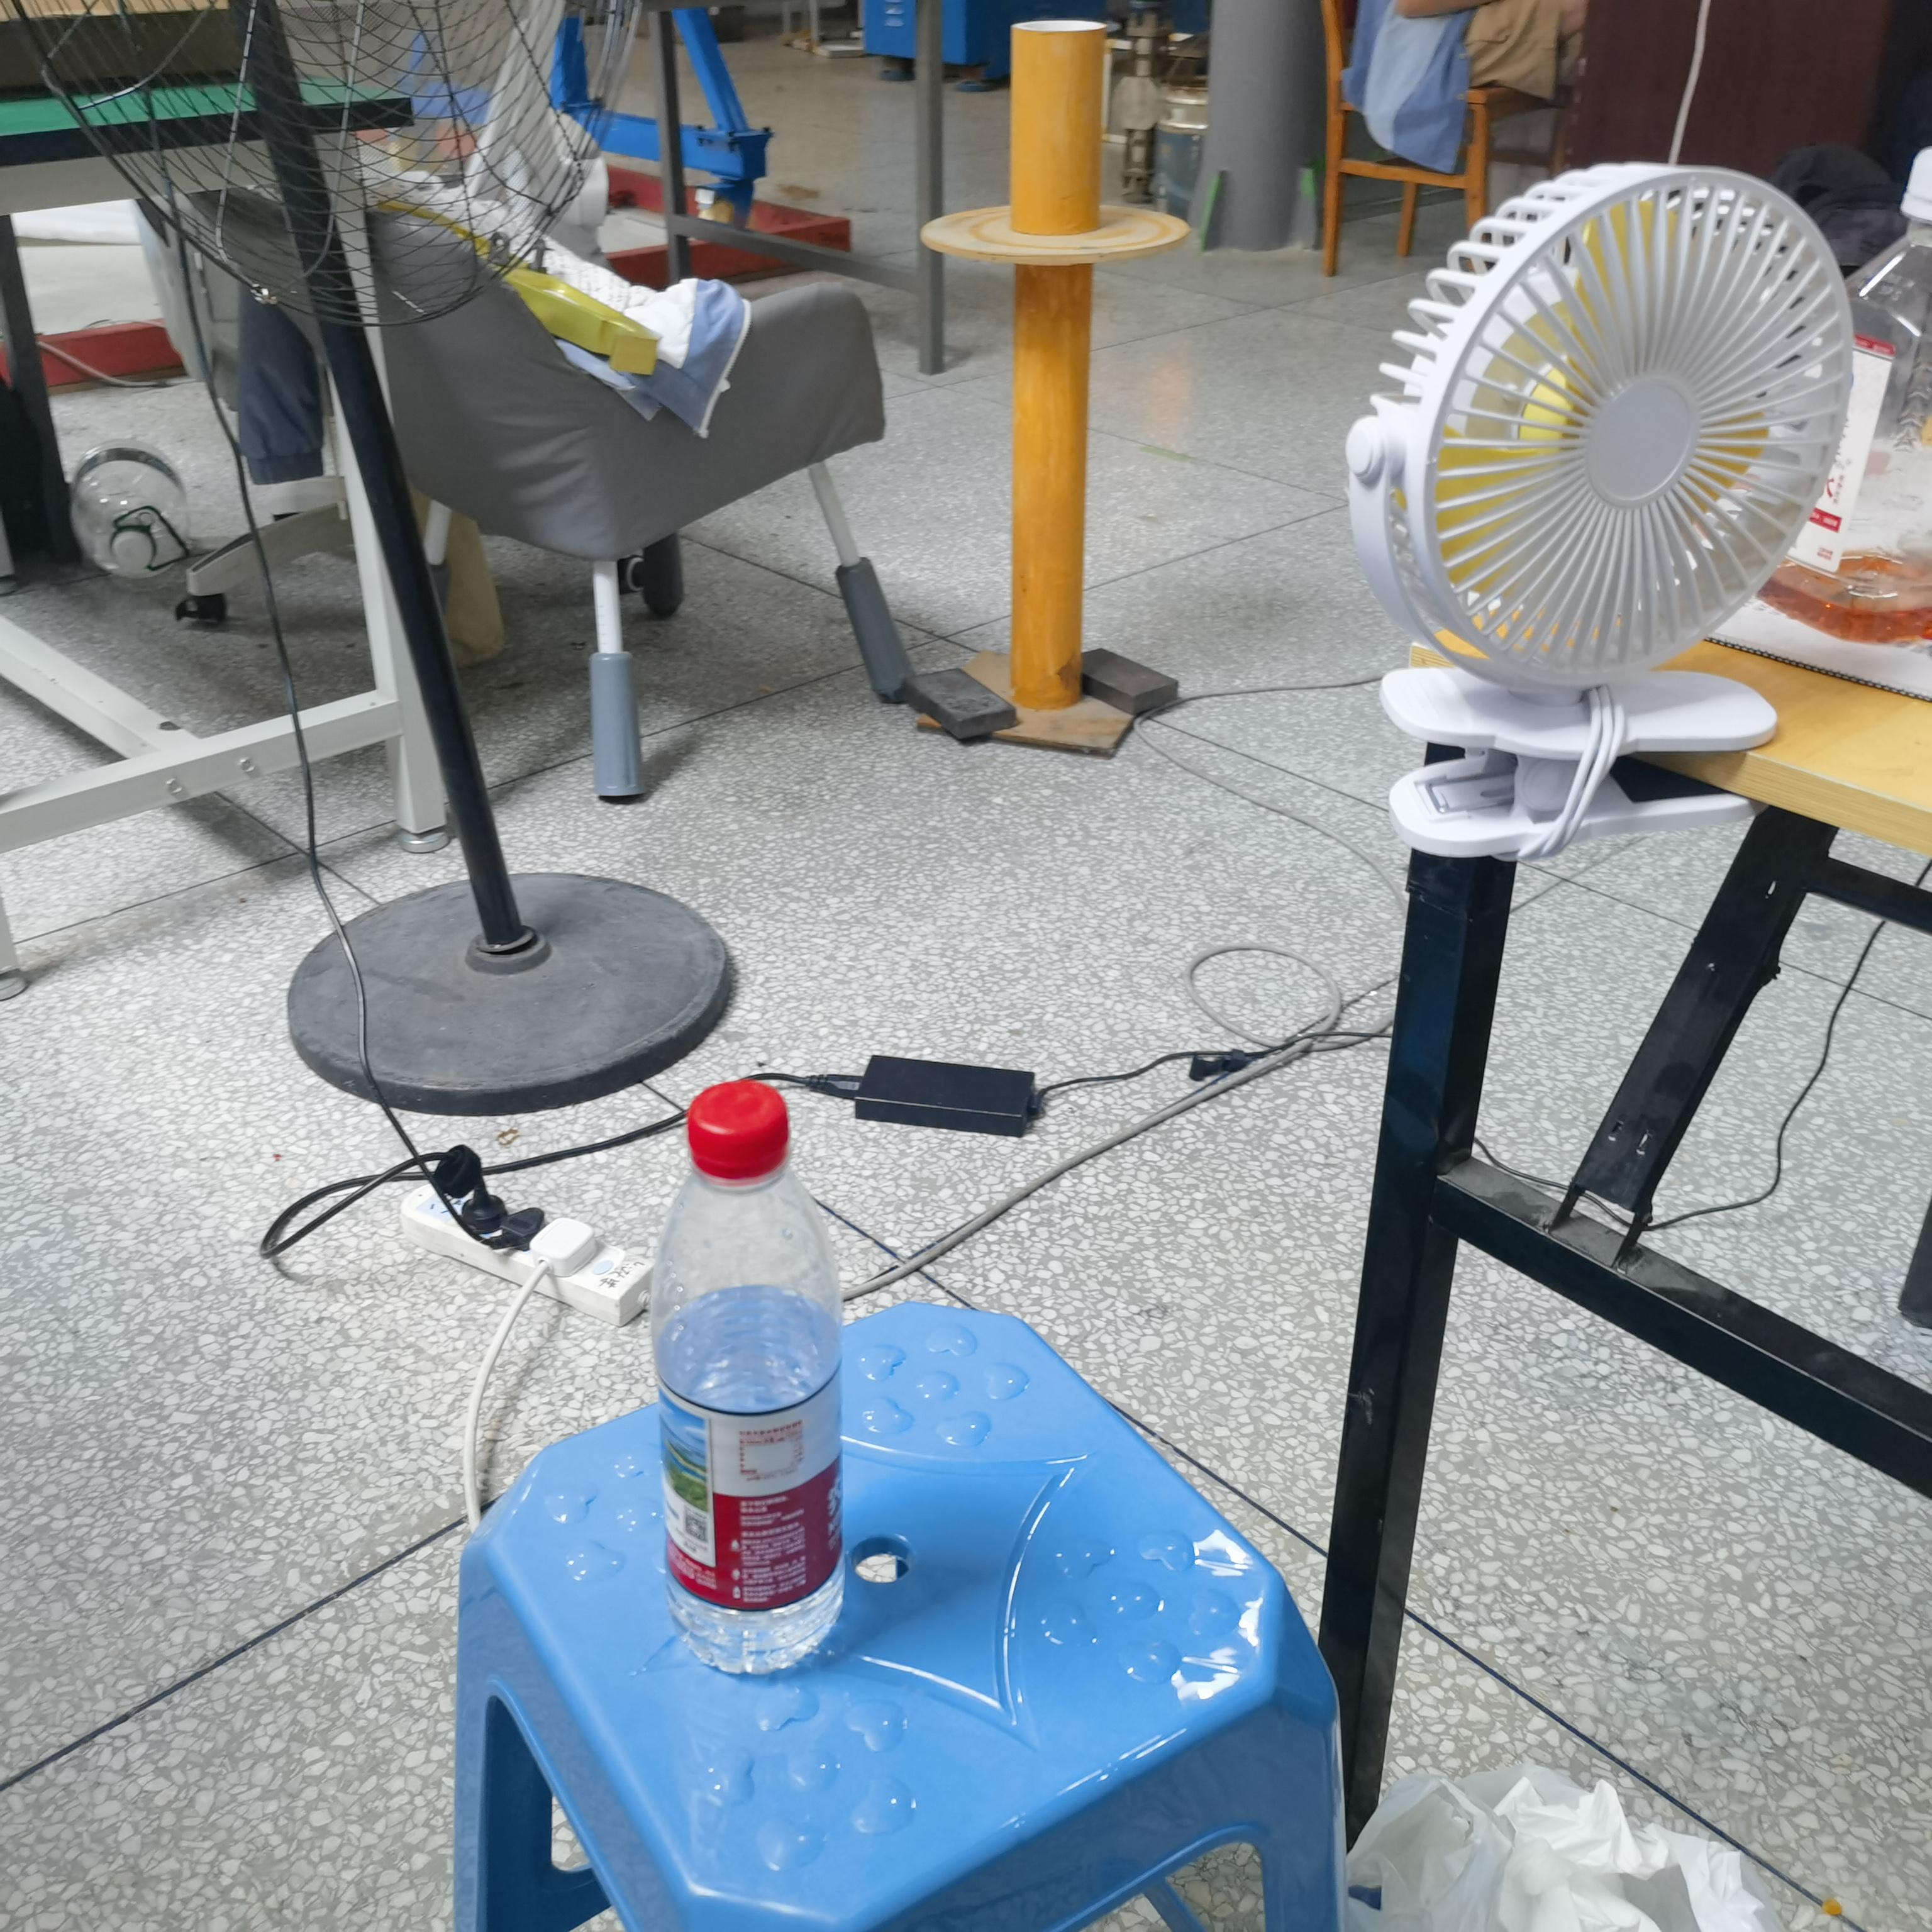bottle: (635, 1074, 855, 1697)
fan: (1336, 140, 1829, 885)
